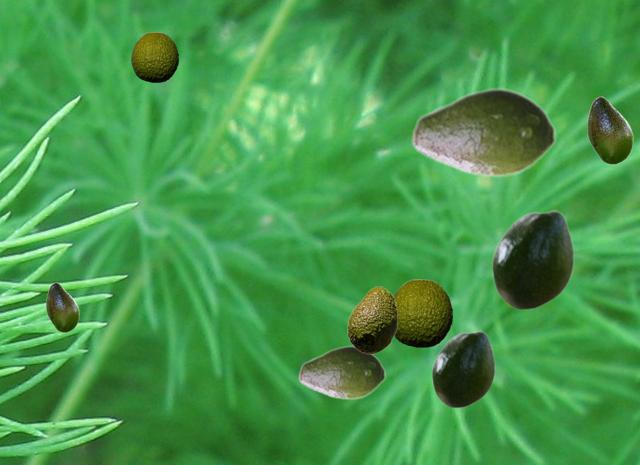avocado: (411, 87, 556, 177), (491, 209, 573, 309), (431, 330, 494, 407), (298, 345, 385, 399), (394, 279, 451, 346), (347, 286, 396, 353), (587, 96, 632, 163), (131, 32, 177, 81), (46, 282, 78, 331)
